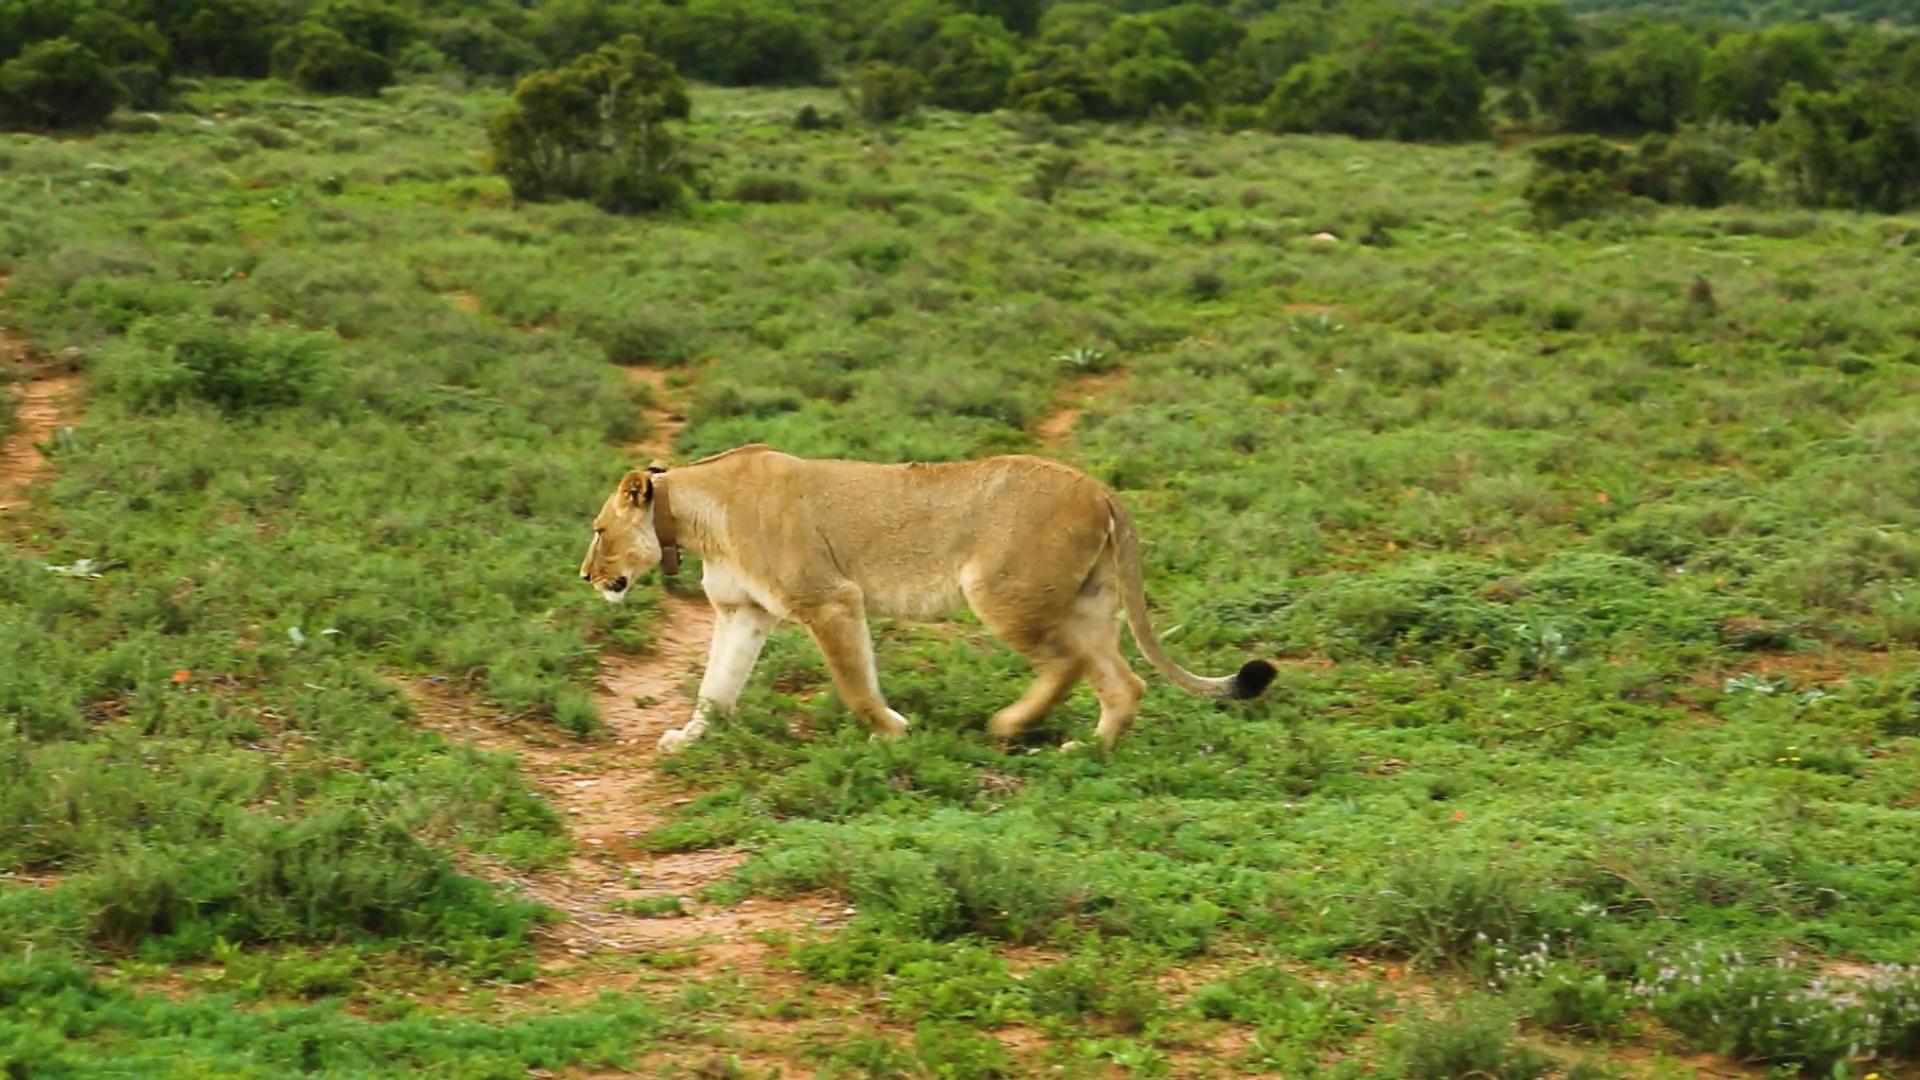lions: (555, 431, 1282, 782)
